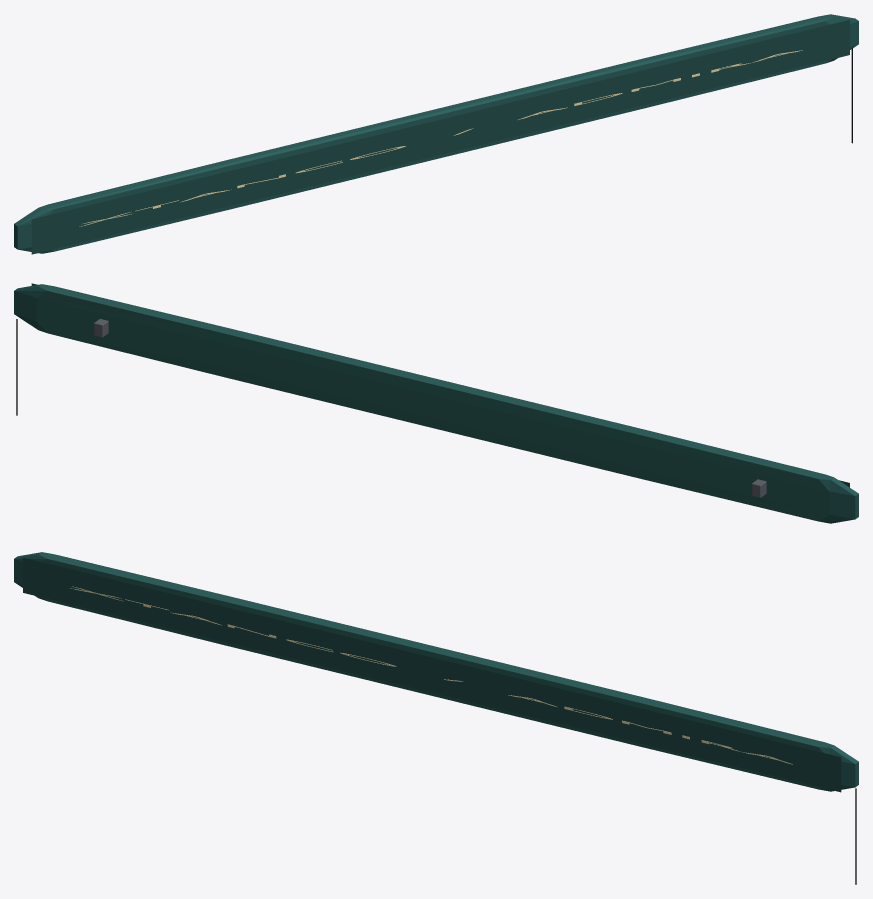
File: hiperreal-hd.glb
The picture shows the model from 3 angles, top to bottom: view 1: azimuth 30°, elevation 25°; view 2: azimuth 150°, elevation 25°; view 3: azimuth 330°, elevation 25°; orthographic projection.
Visible parts, largest first — view 1: Native component 1, Native component 0, Sign XTANCO / ADMIRA; view 2: Native component 0; view 3: Native component 1, Native component 0, Sign XTANCO / ADMIRA.
Boxes of the visible parts, left/top/right/bottom form: Native component 1: left=31, top=20, right=849, bottom=254; Native component 0: left=14, top=14, right=858, bottom=253; Sign XTANCO / ADMIRA: left=79, top=50, right=802, bottom=226; Native component 0: left=14, top=284, right=858, bottom=523; Native component 1: left=23, top=557, right=841, bottom=792; Native component 0: left=14, top=552, right=858, bottom=791; Sign XTANCO / ADMIRA: left=71, top=586, right=792, bottom=764.
Size of the model in its own units: 5.5 by 0.845 by 0.161.
